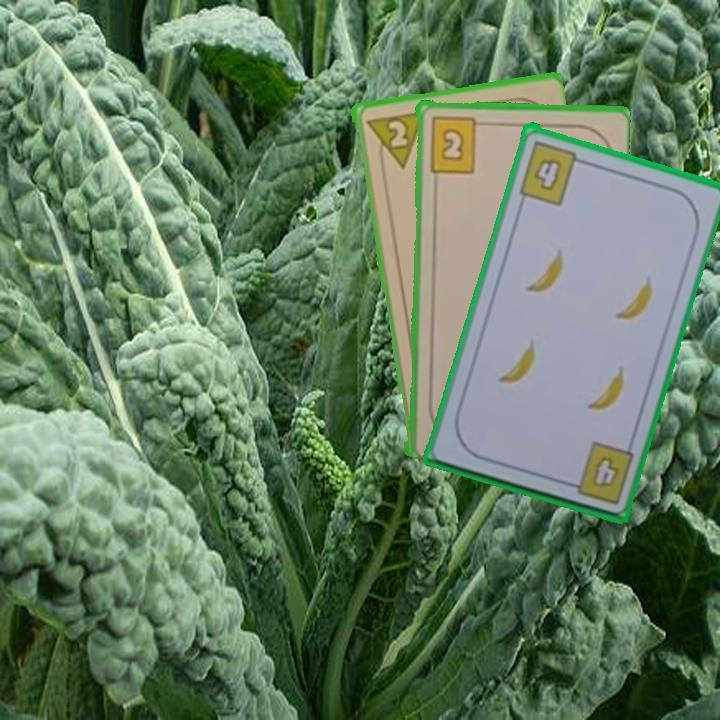2b: (426, 113, 488, 175)
2p: (360, 107, 425, 173)
4b: (515, 136, 589, 208), (588, 452, 622, 490)
